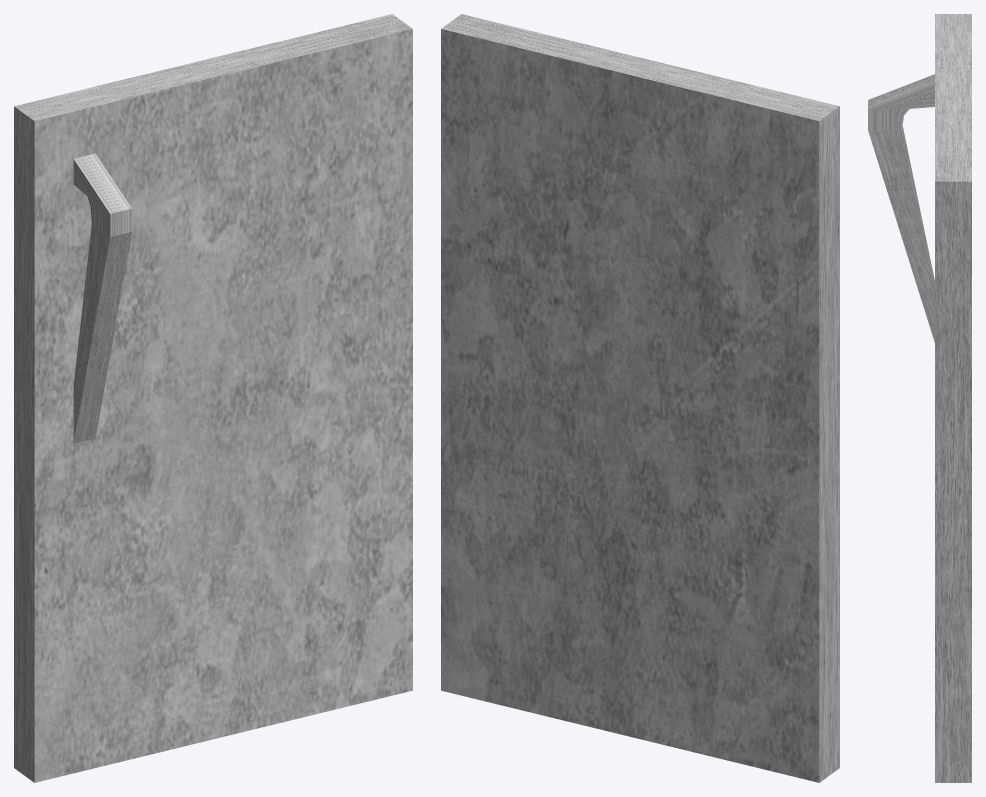
Rendered from pkulkasbawah.fbx.
3 renders of one model, left to right at view 1: azimuth 30°, elevation 25°; view 2: azimuth 150°, elevation 25°; view 3: azimuth 270°, elevation 25°, orthographic. The views are drawn at different scales.
Visible parts, largest first — view 1: Cube.007; view 2: Cube.007; view 3: Cube.007.
Boxes of the visible parts, x1=… form: Cube.007: x1=14, y1=14, x2=412, y2=782; Cube.007: x1=441, y1=14, x2=839, y2=782; Cube.007: x1=868, y1=14, x2=971, y2=782.
Bounding box in the file's own units: 106 × 178 × 27.78.
